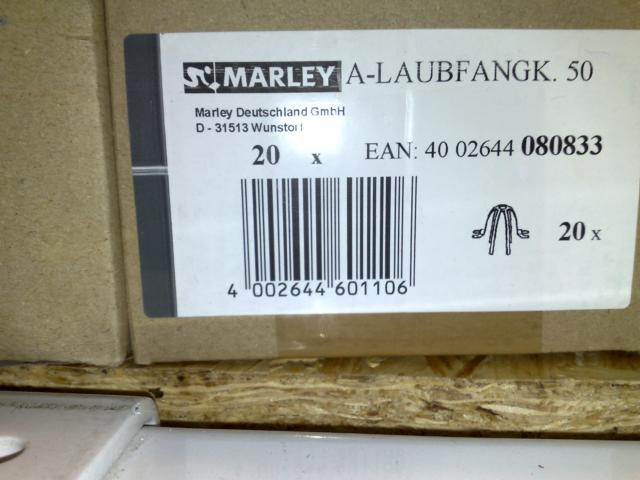Barkod: (239, 174, 418, 280)
